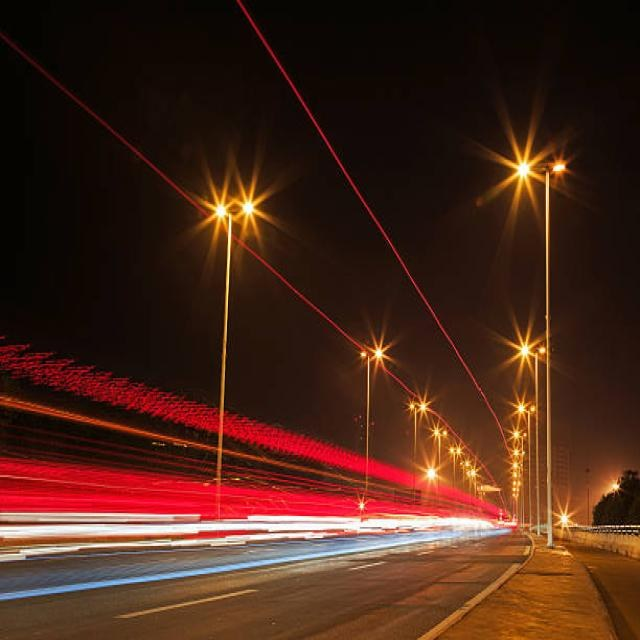acesa: (468, 96, 584, 225), (184, 152, 289, 260), (498, 312, 548, 378), (353, 317, 400, 379), (504, 393, 538, 447)
